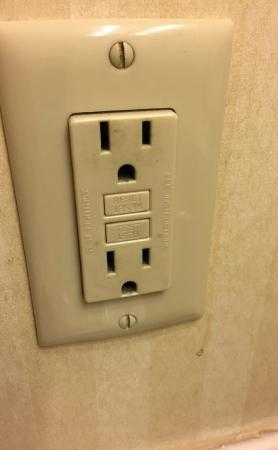outlet: (90, 113, 159, 188), (100, 243, 161, 300)
